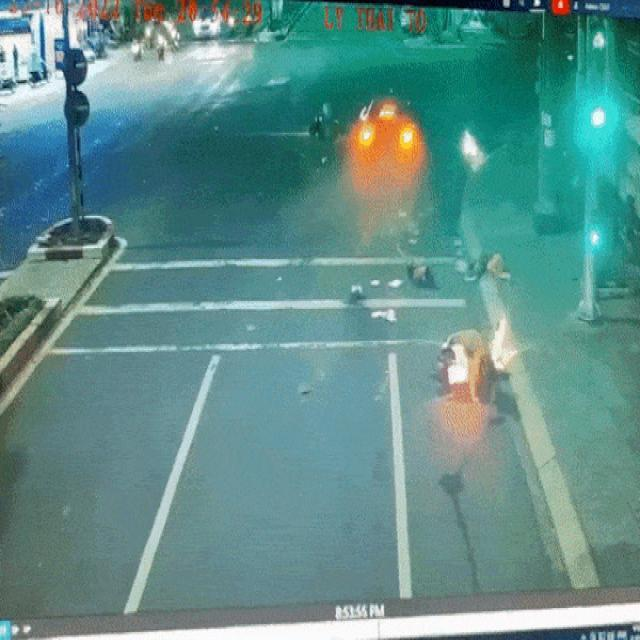multiple_accident: (336, 221, 531, 421), (296, 79, 437, 195)
